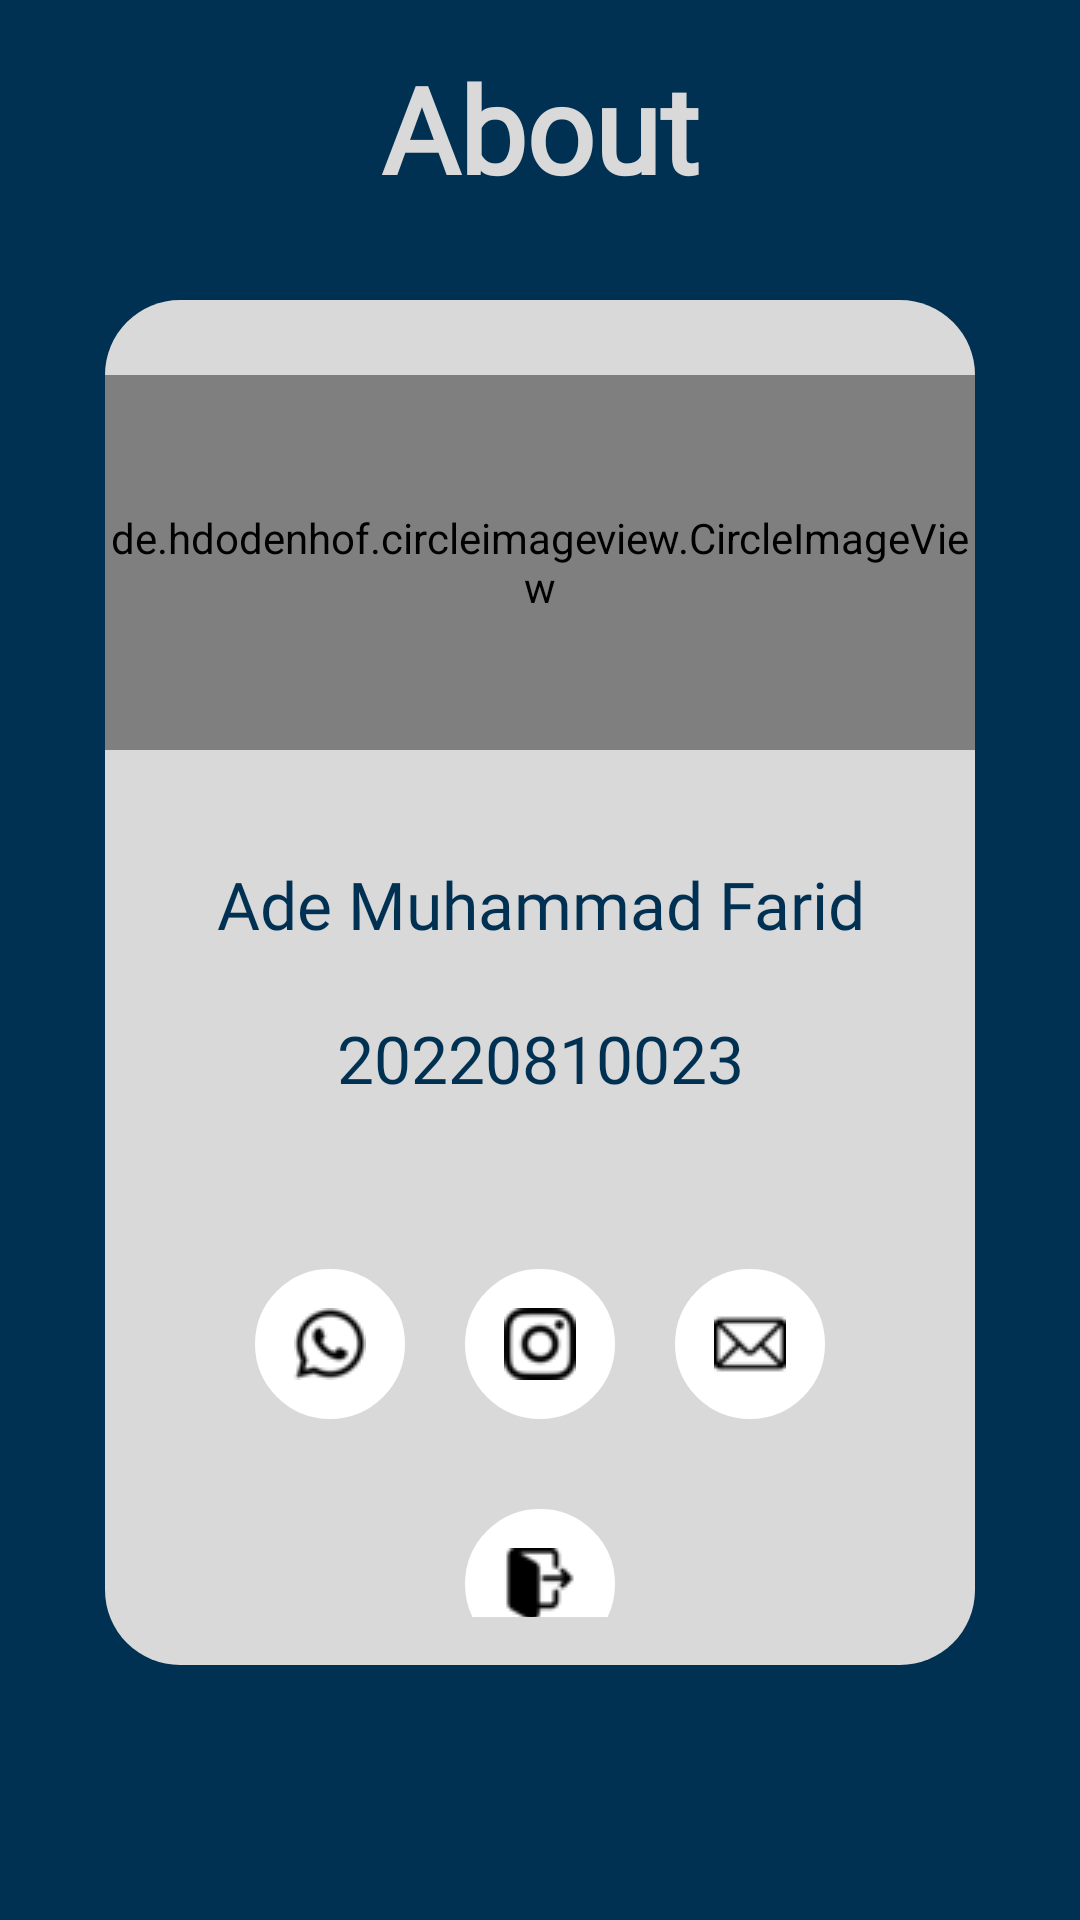

Icon click points for this 1080x1920 phone screenshot, format (x,y):
Email: (750,1344)
